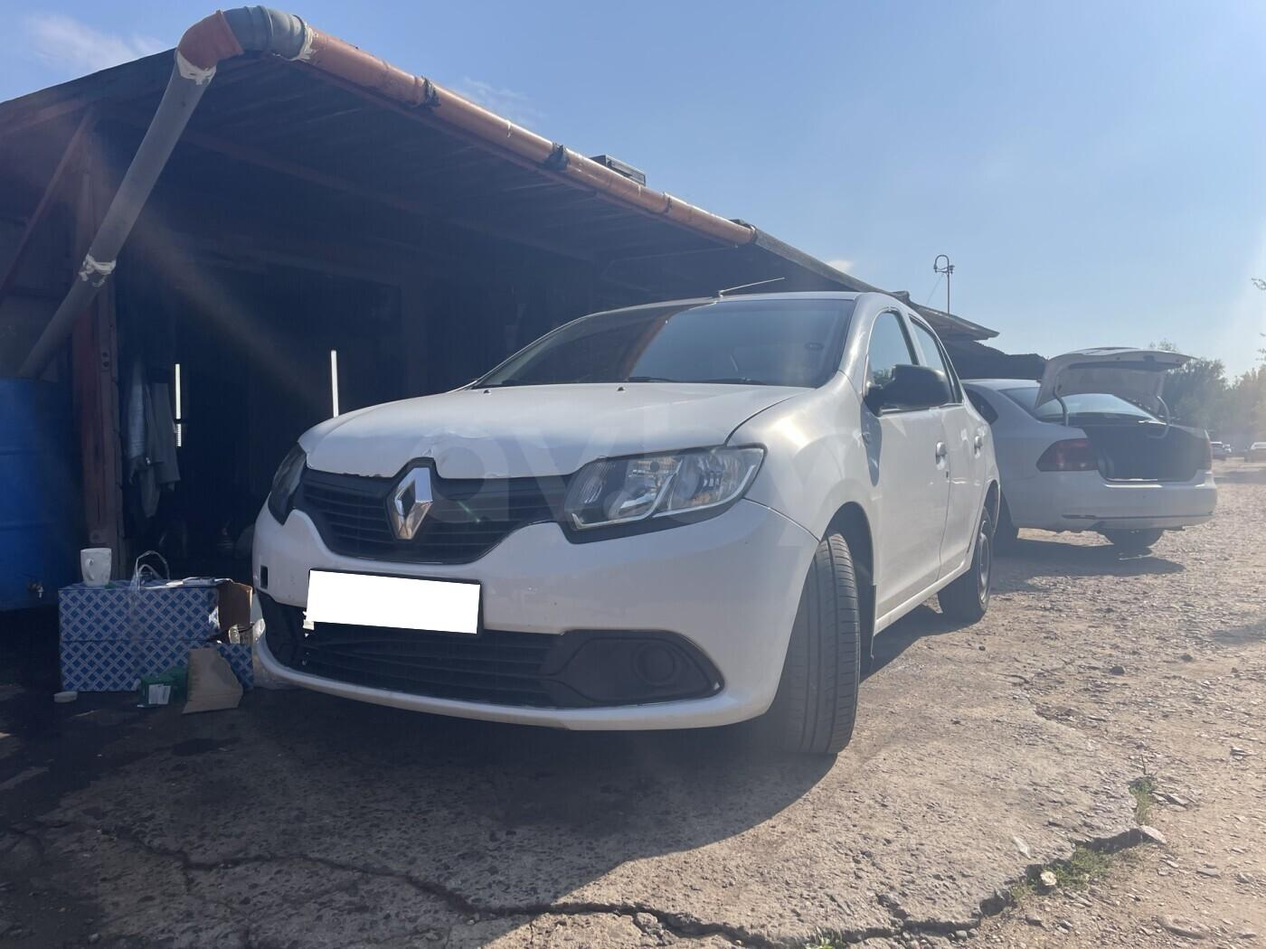Logan_2013-2018: (248, 287, 1002, 776)
